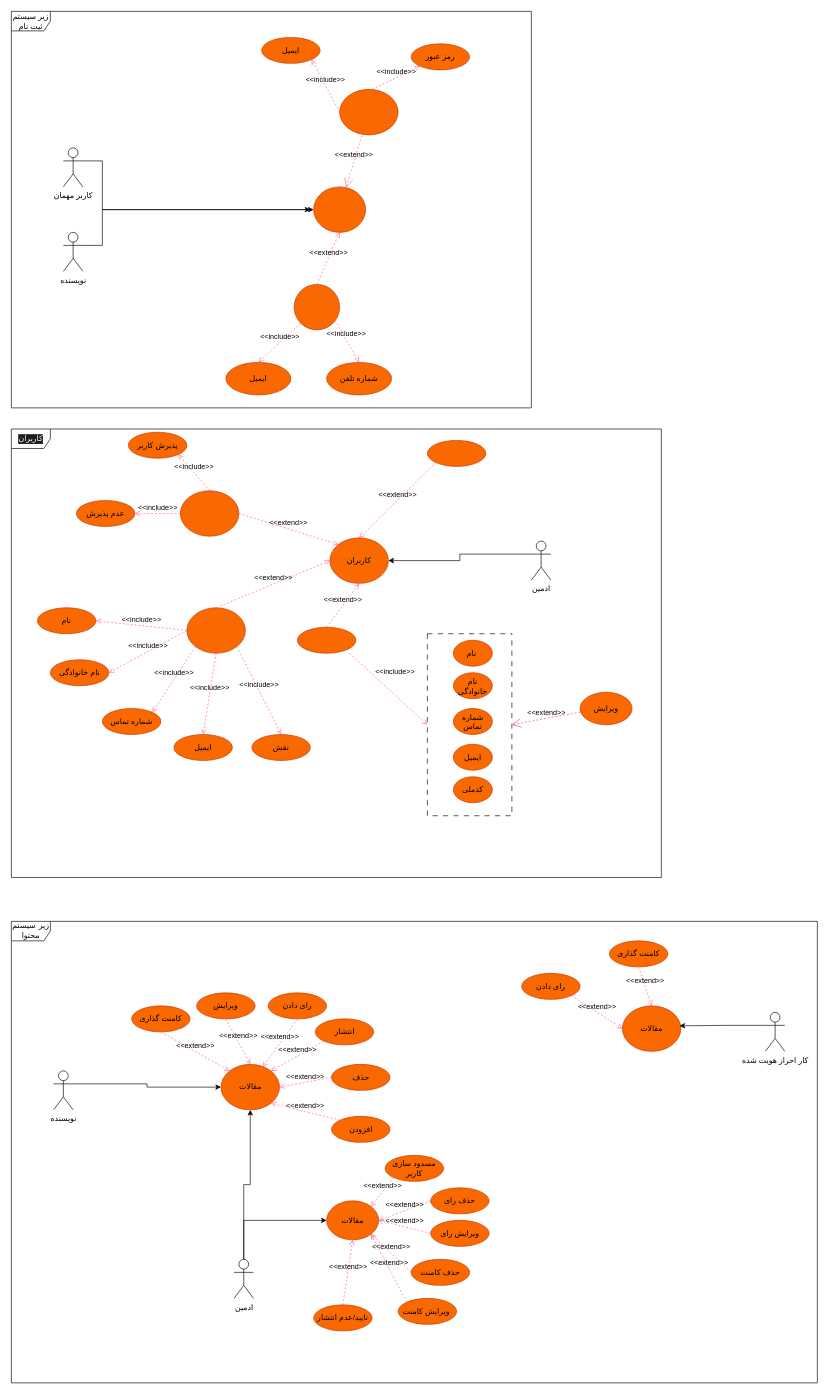
The diagram is 829 pixels wide and 1394 high, and some of its shapes have lost their labels. The centre of each missing label's shape, as x and y in pixels:
"ایجاد کاربر" belongs at [215,630].
"بازیابی رمز عبور" belongs at [316,307].
"ثبت نام" belongs at [368,112].
"جستجو" belongs at [326,640].
"حذف و غیرفعالسازی حساب" belongs at [456,453].
"ورود" belongs at [339,209].
"کاربران جدید" belongs at [209,513].
